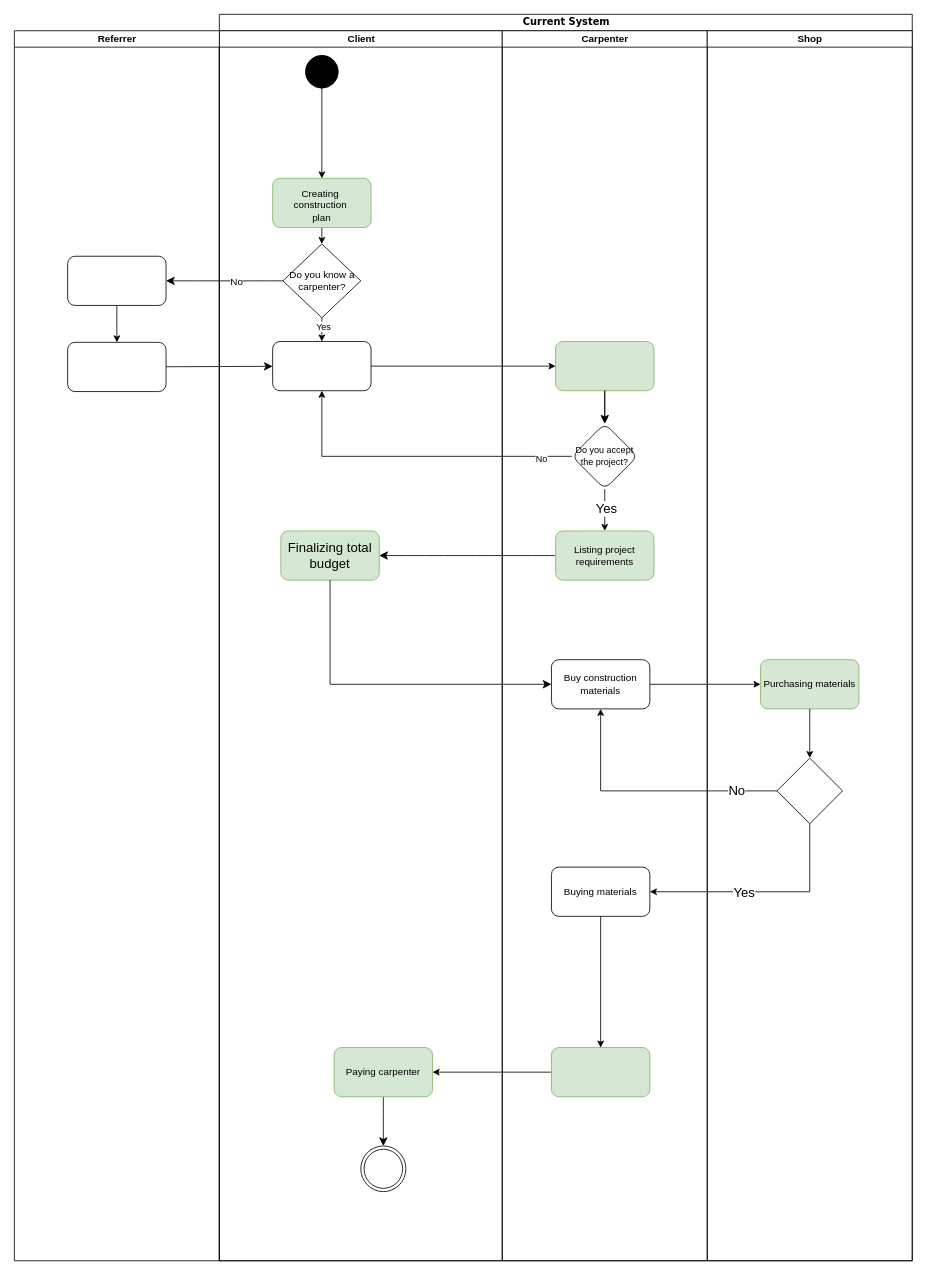
Image size: 927x1275. Some labels were removed from this diagram. Here are the shapes that lost their labels. From the top down, the centre of each, then its label:
At (x=116, y=280): "List of Carpenters".
At (x=116, y=367): "Suggest Carpenters".
At (x=321, y=366): "Present the plan".
At (x=604, y=366): "Evaluating Plan".
At (x=809, y=790): "Is it available?".
At (x=600, y=1072): "Completing the project".
At (x=383, y=1168): "end".
